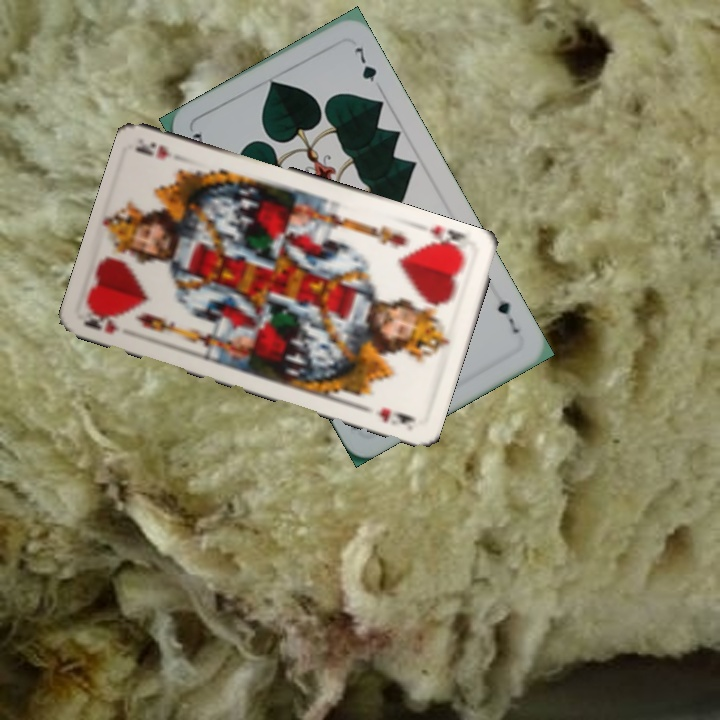G7: (493, 296, 522, 336)
HK: (420, 222, 470, 259), (81, 305, 123, 337)
